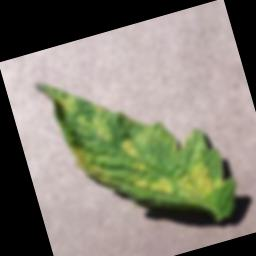Leaf_Mold: (33, 37, 244, 256)
